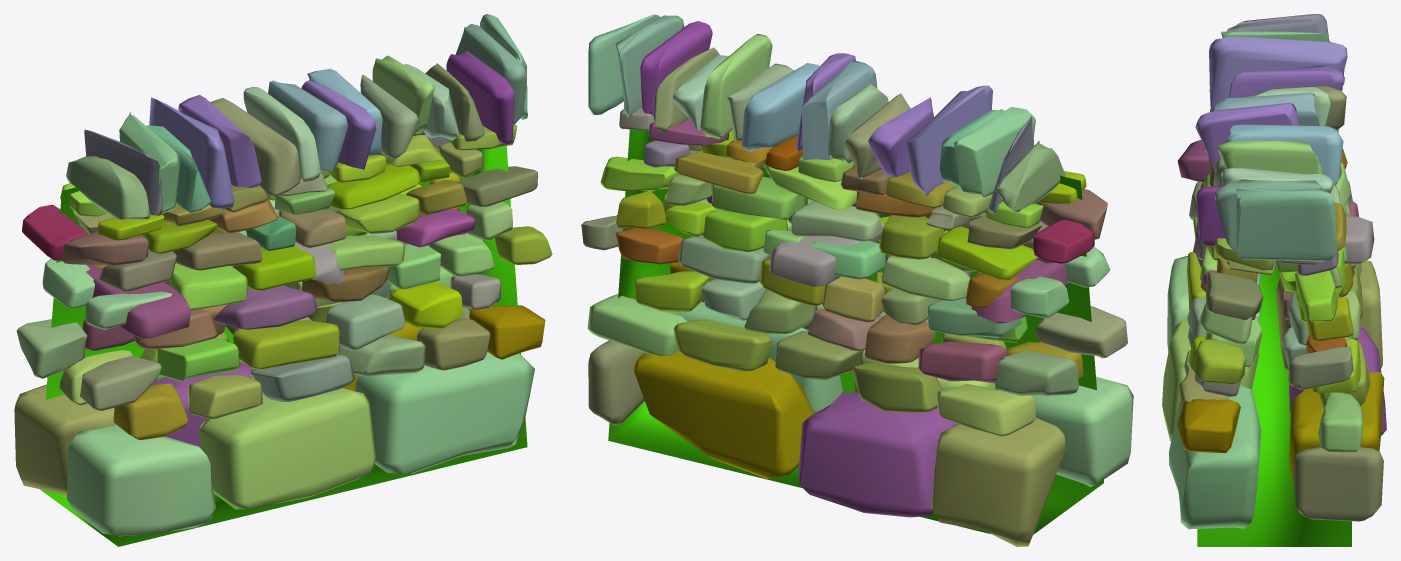
The model's file is SM_Prop_wall_stone_3.glb.
3 renders of one model, left to right at view 1: azimuth 30°, elevation 25°; view 2: azimuth 150°, elevation 25°; view 3: azimuth 270°, elevation 25°, orthographic. The views are drawn at different scales.
Parts seen in each view (by area): view 1: SM_Prop_wall_stone_3; view 2: SM_Prop_wall_stone_3; view 3: SM_Prop_wall_stone_3.
Boxes of the visible parts, <box> form: SM_Prop_wall_stone_3: <box>14,14,552,546</box>; SM_Prop_wall_stone_3: <box>581,14,1133,546</box>; SM_Prop_wall_stone_3: <box>1162,14,1386,546</box>.
Bounding box in the file's own units: 2.26 × 1.74 × 0.9594.
